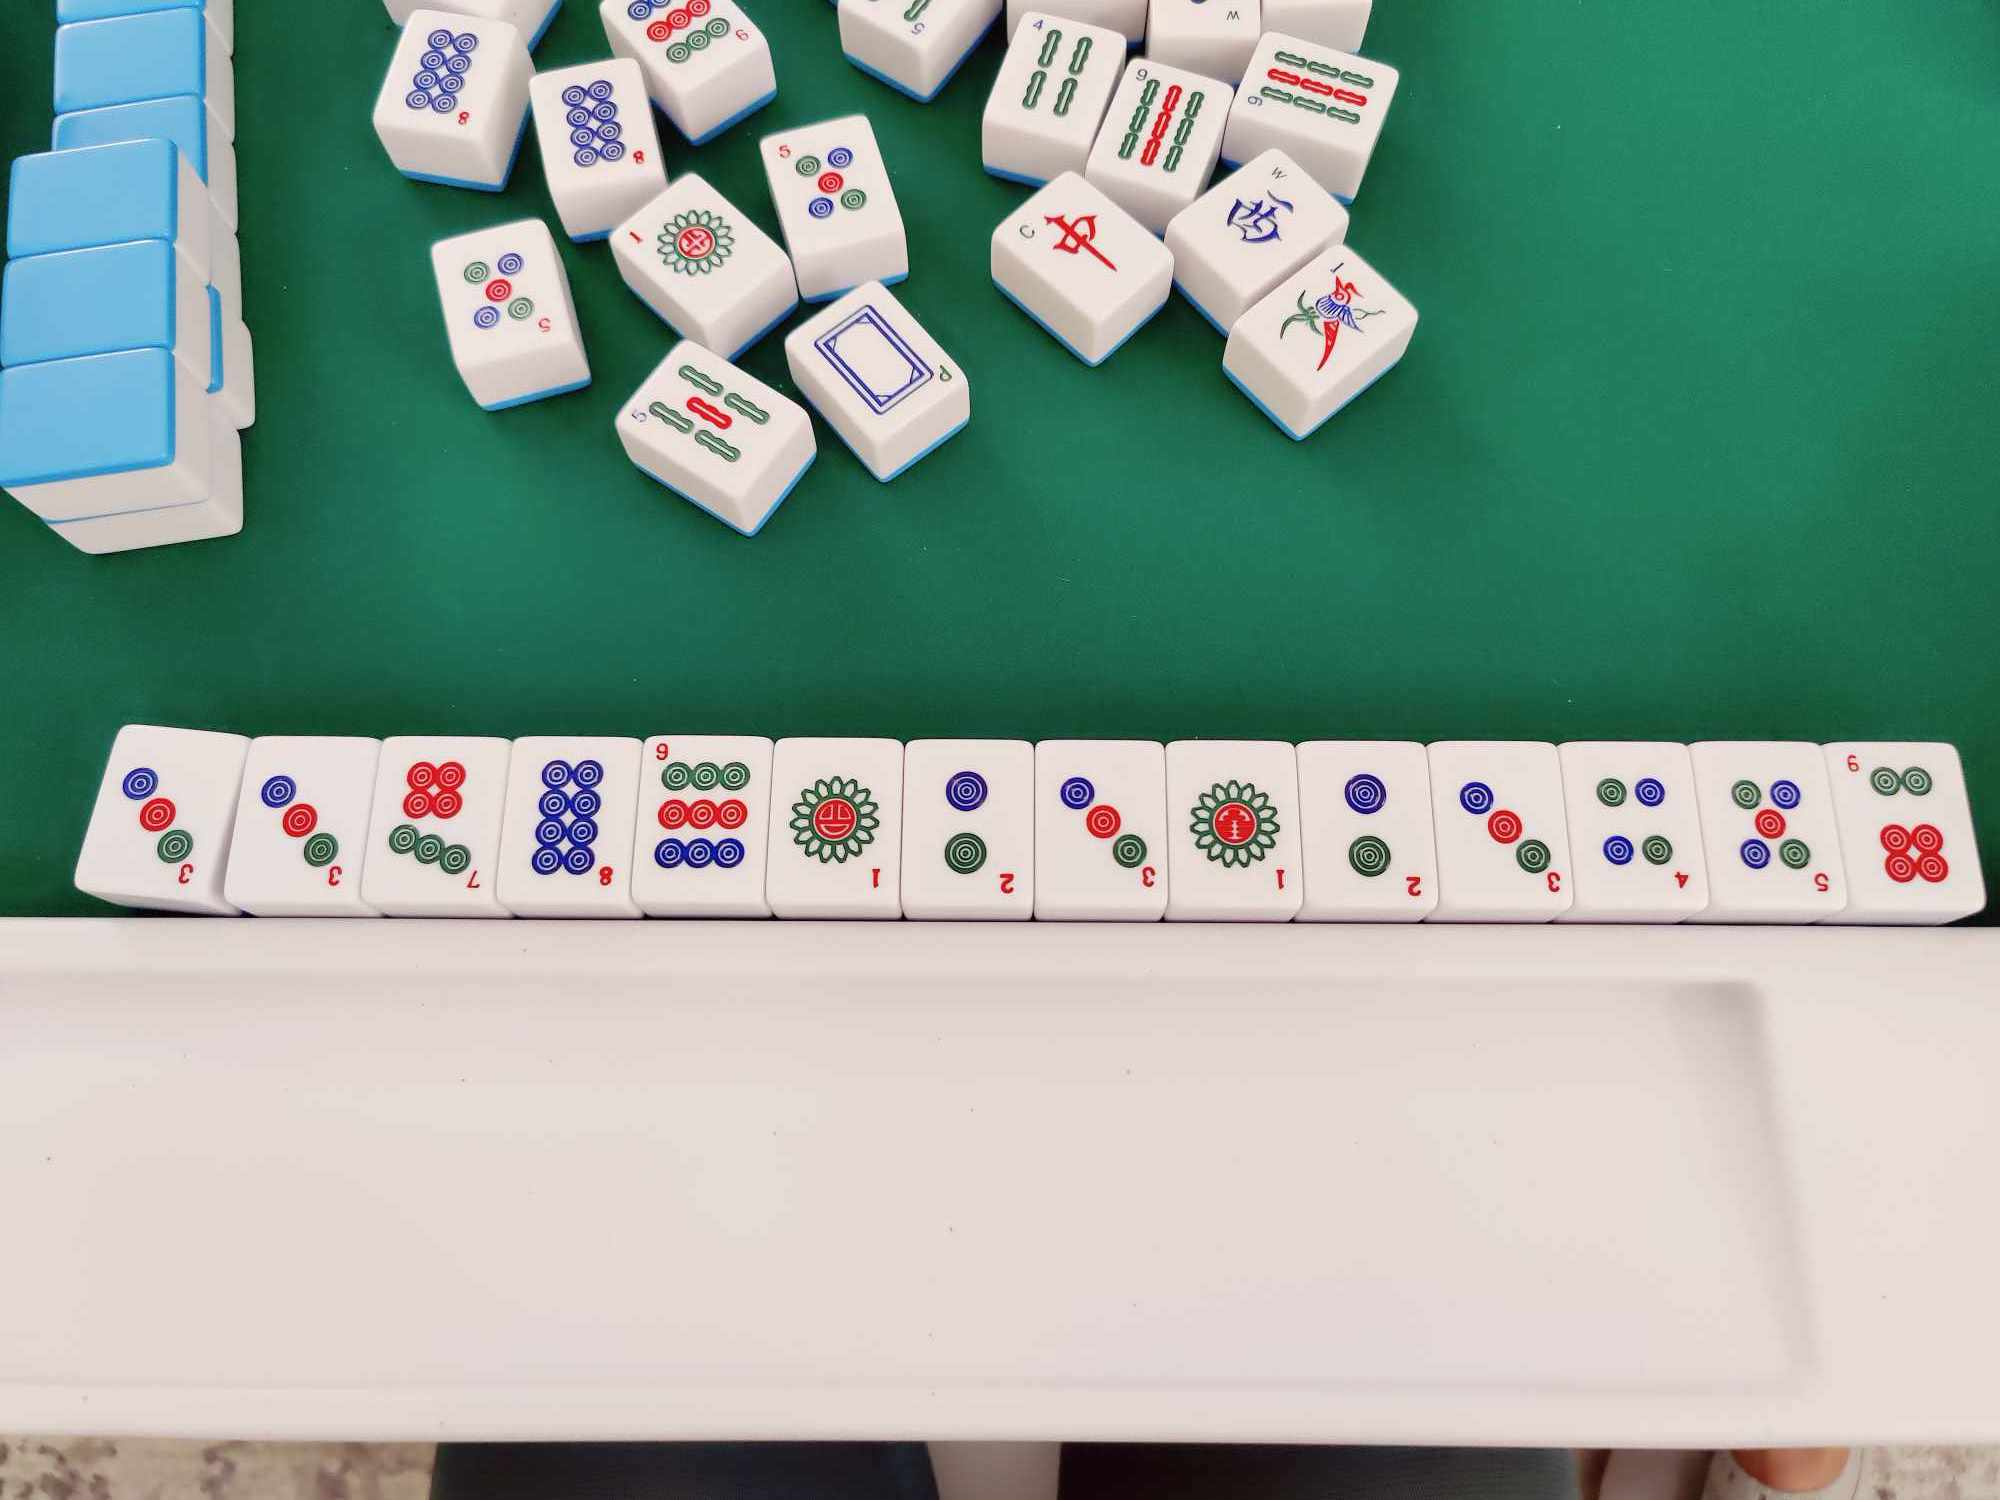circle-eight: (520, 741, 624, 895)
circle-five: (1720, 752, 1833, 900)
circle-four: (1581, 747, 1696, 904)
circle-nine: (647, 737, 753, 900)
circle-one: (1175, 747, 1291, 900), (778, 742, 890, 893)
circle-seven: (383, 739, 490, 900)
circle-six: (1843, 752, 1954, 901)
circle-three: (1041, 744, 1162, 895), (1443, 750, 1564, 901), (254, 744, 348, 898), (117, 731, 205, 889)
circle-two: (1310, 745, 1428, 898), (910, 745, 1027, 900)
